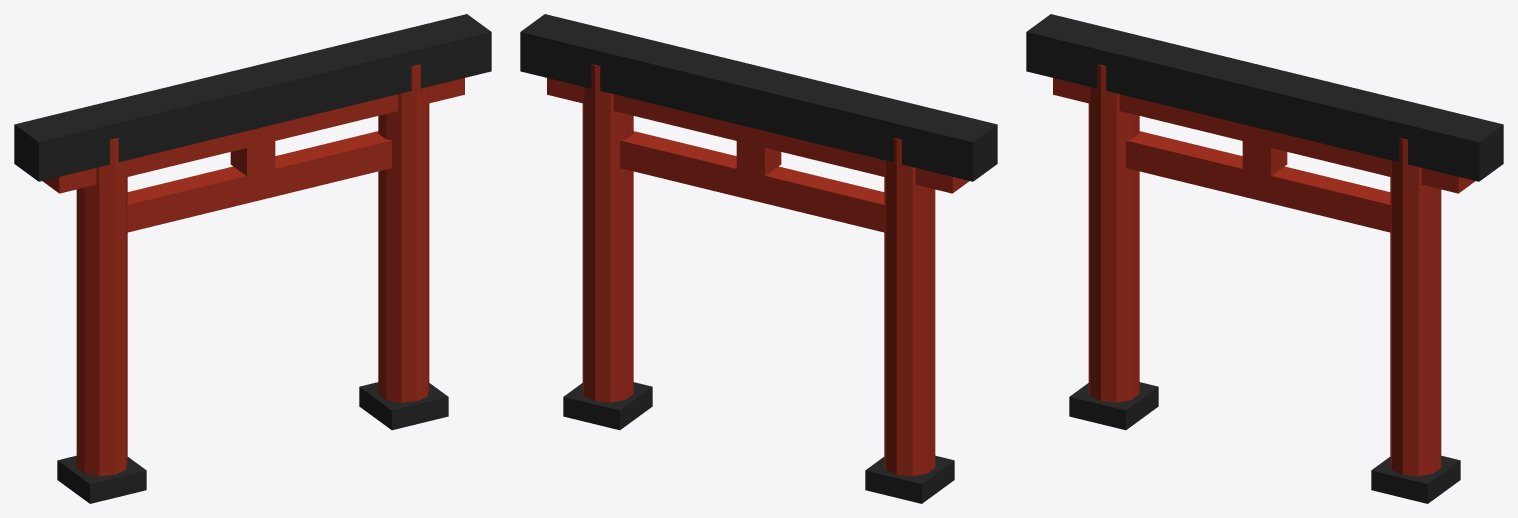
File: deco_torii_lite.glb
3 views of the same model, side by side, from view 1: azimuth 30°, elevation 25°; view 2: azimuth 150°, elevation 25°; view 3: azimuth 330°, elevation 25° (orthographic).
Parts seen in each view (by area): view 1: Cylinder; view 2: Cylinder; view 3: Cylinder.
Boxes of the visible parts, bbox=[...] form: Cylinder: bbox=[14, 14, 491, 503]; Cylinder: bbox=[520, 14, 997, 503]; Cylinder: bbox=[1026, 14, 1503, 503].
Size of the model in its own units: 4.8 by 3.75 by 0.6.
